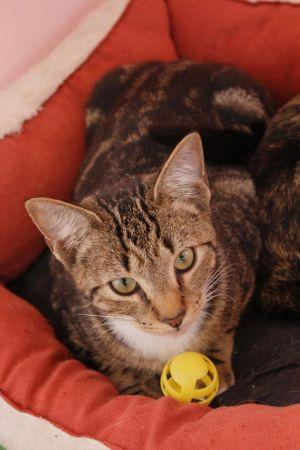bengal: (22, 130, 247, 357)
